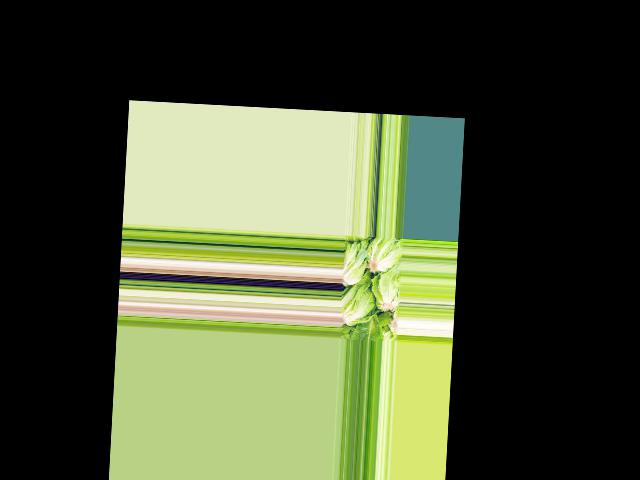lettuce: (358, 316, 384, 342)
